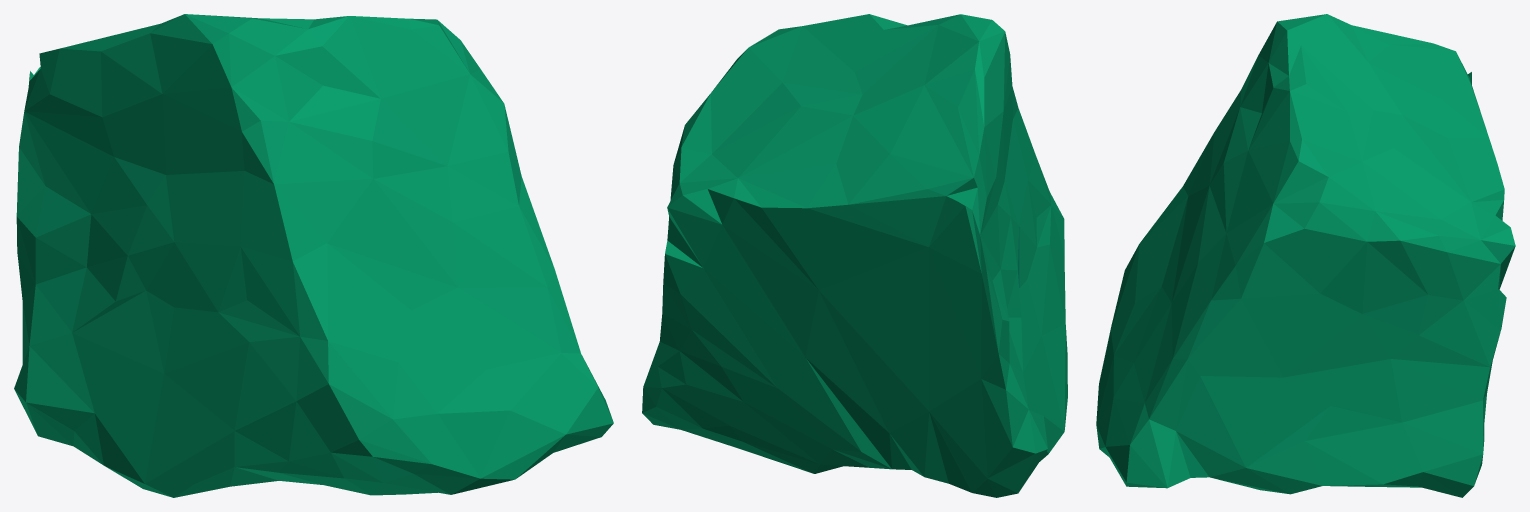
File: green_rock.dae
3 views of the same model, side by side, from view 1: azimuth 30°, elevation 25°; view 2: azimuth 150°, elevation 25°; view 3: azimuth 270°, elevation 25° (orthographic). The views are drawn at different scales.
Parts seen in each view (by area): view 1: skp2F4; view 2: skp2F4; view 3: skp2F4.
Part boxes in pixels (x1=…): skp2F4: x1=14, y1=14, x2=613, y2=497; skp2F4: x1=642, y1=14, x2=1067, y2=497; skp2F4: x1=1096, y1=14, x2=1515, y2=497.
Bounding box in the file's own units: 28.5 × 27.36 × 27.87.
